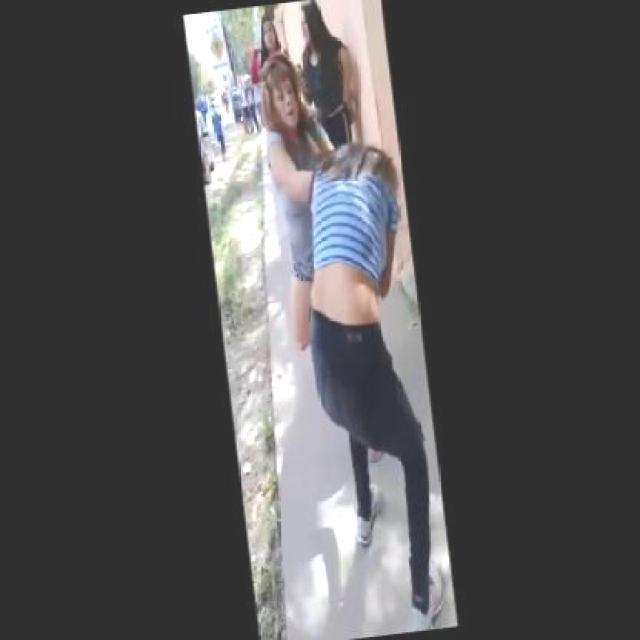fight: (254, 46, 440, 540)
